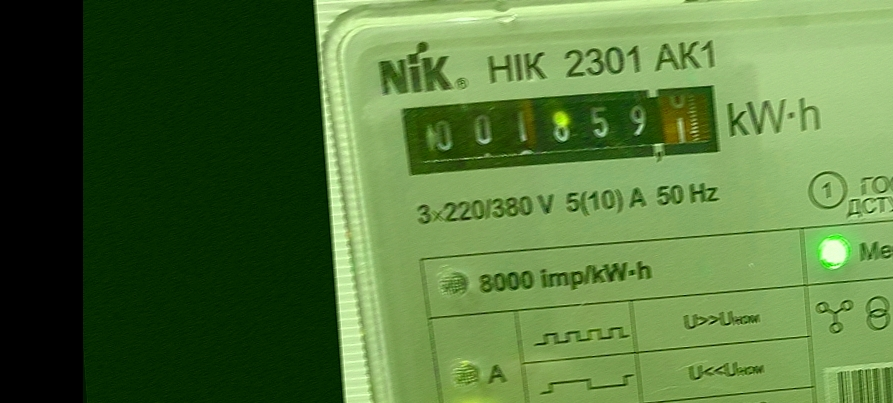0: (432, 118, 454, 155), (471, 113, 493, 148)
1: (515, 109, 529, 146), (673, 115, 688, 146)
5: (588, 104, 611, 141)
8: (550, 109, 572, 146)
9: (627, 103, 648, 139)
screen: (389, 73, 731, 188)
